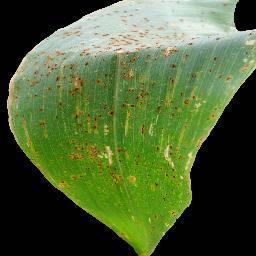Corn_Common_Rust: (0, 0, 256, 87), (4, 88, 239, 147), (57, 147, 199, 192), (154, 190, 190, 230), (110, 228, 133, 248)
